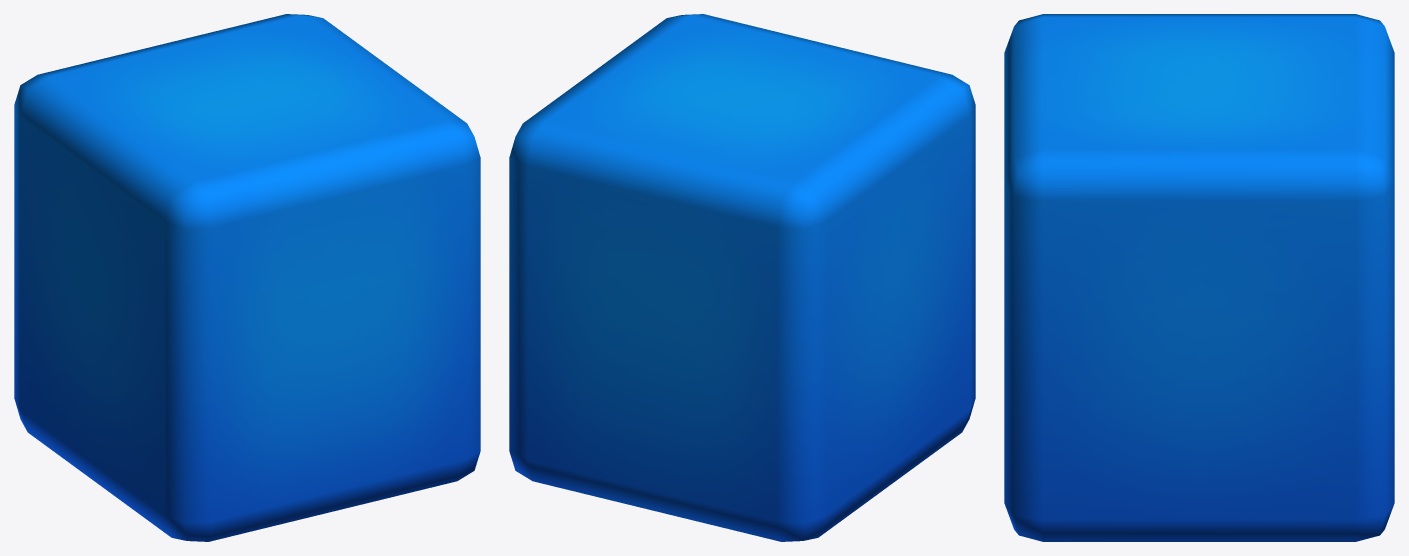
File: FX_box_blue.fbx
3 renders of one model, left to right at view 1: azimuth 30°, elevation 25°; view 2: azimuth 150°, elevation 25°; view 3: azimuth 270°, elevation 25°, orthographic. The views are drawn at different scales.
Parts seen in each view (by area): view 1: FX_box_blue; view 2: FX_box_blue; view 3: FX_box_blue.
Boxes of the visible parts, x1,y1,x2,y2 form: FX_box_blue: [14, 14, 480, 541]; FX_box_blue: [509, 14, 975, 541]; FX_box_blue: [1004, 14, 1394, 541].
Bounding box in the file's own units: 99.89 × 110 × 100.
Materials: 1 (1 with a texture image).
